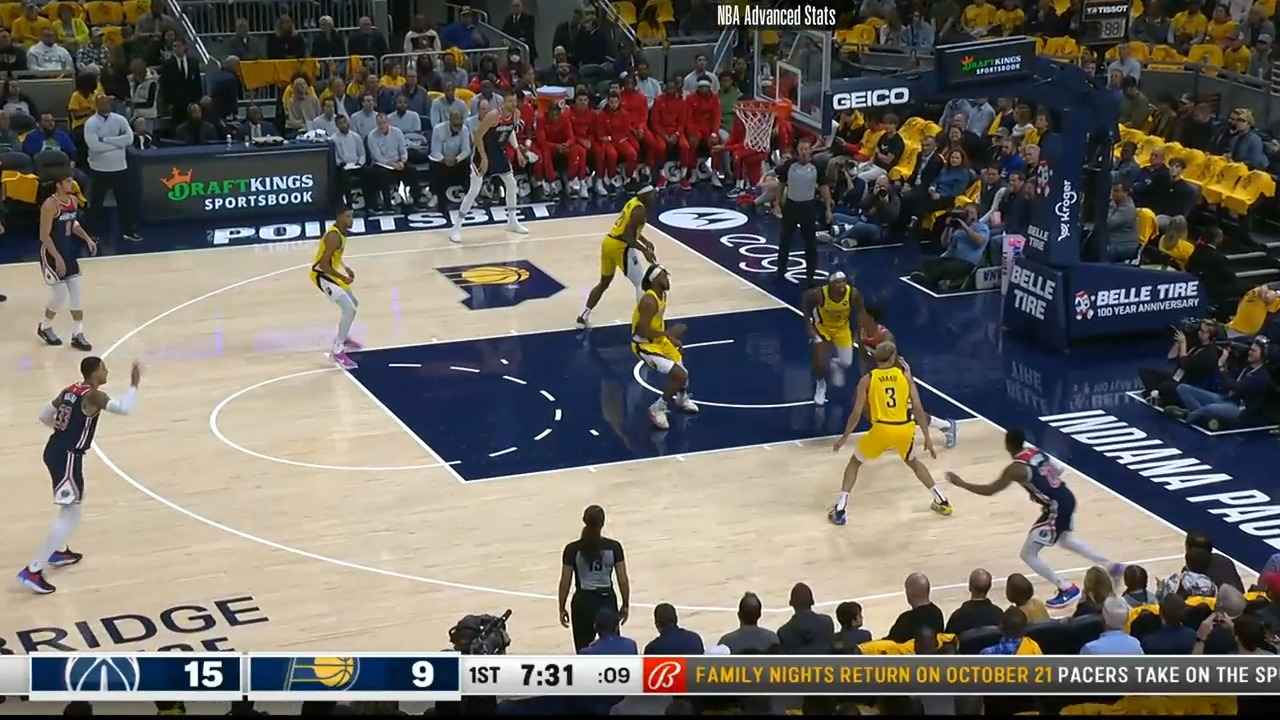net: (728, 95, 793, 154)
player: (25, 355, 145, 603), (825, 303, 948, 526), (970, 427, 1123, 595), (853, 295, 962, 450), (569, 176, 660, 330), (631, 262, 705, 436), (448, 91, 525, 248), (31, 174, 92, 357), (303, 207, 366, 379), (803, 259, 872, 416)
referee: (774, 142, 833, 283)
